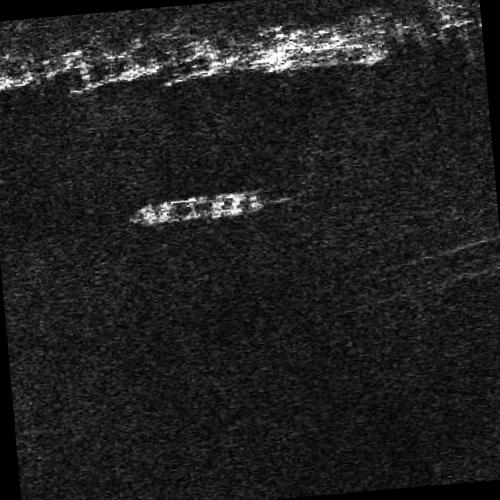ship: (128, 190, 269, 226)
